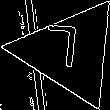L_S: (51, 26, 89, 79)
